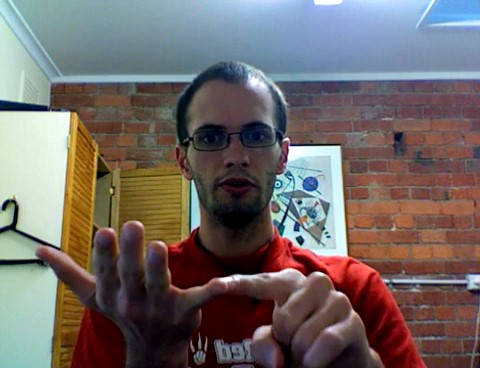T: (29, 216, 368, 368)
